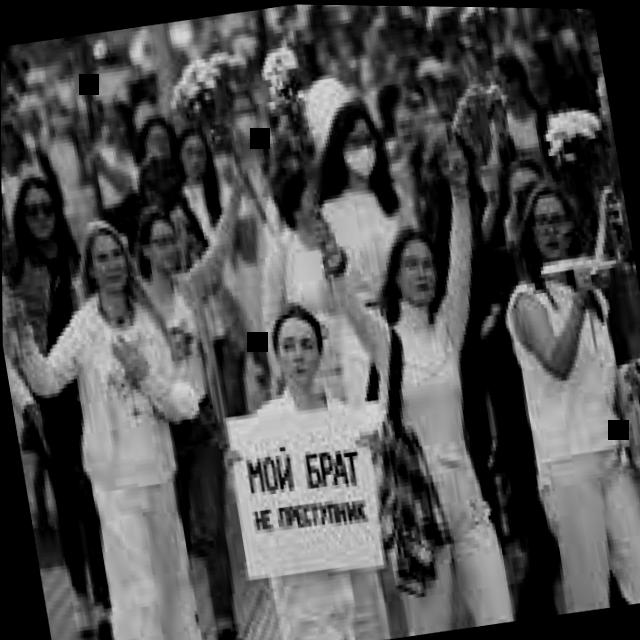Mask: (485, 43, 555, 165), (335, 112, 381, 181), (230, 92, 261, 142)
NO-Mask: (523, 190, 573, 263), (393, 236, 441, 308), (273, 317, 321, 386), (85, 228, 131, 297), (17, 179, 57, 246), (143, 218, 180, 274), (179, 133, 212, 183), (523, 42, 549, 89), (142, 124, 173, 163), (394, 106, 420, 144)
